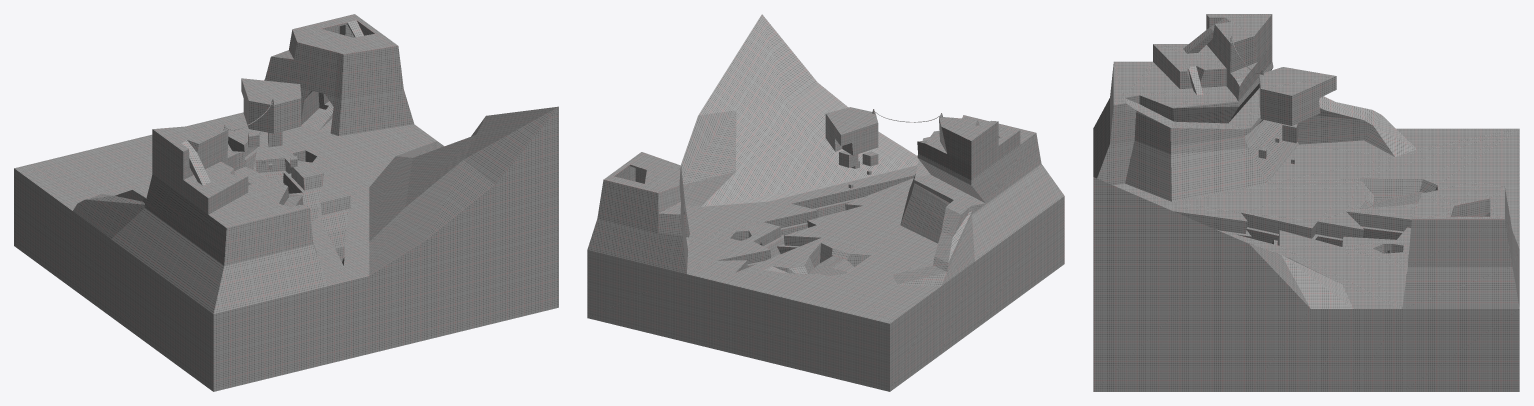
Rendered from canyon.glb.
3 renders of one model, left to right at view 1: azimuth 30°, elevation 25°; view 2: azimuth 150°, elevation 25°; view 3: azimuth 270°, elevation 25°, orthographic. The views are drawn at different scales.
Visible parts, largest first — view 1: Plane.001; view 2: Plane.001; view 3: Plane.001.
Boxes of the visible parts, x1,y1,x2,y2 form: Plane.001: (14,14,558,391); Plane.001: (587,14,1064,391); Plane.001: (1093,14,1519,391).
Bounding box in the file's own units: 201 × 111 × 200.
Materials: 1 (1 with a texture image).
